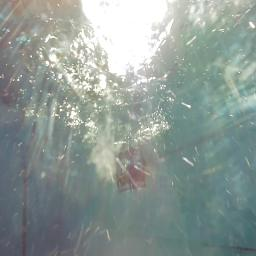Full: (116, 161, 147, 192)
back: (116, 152, 147, 194)
